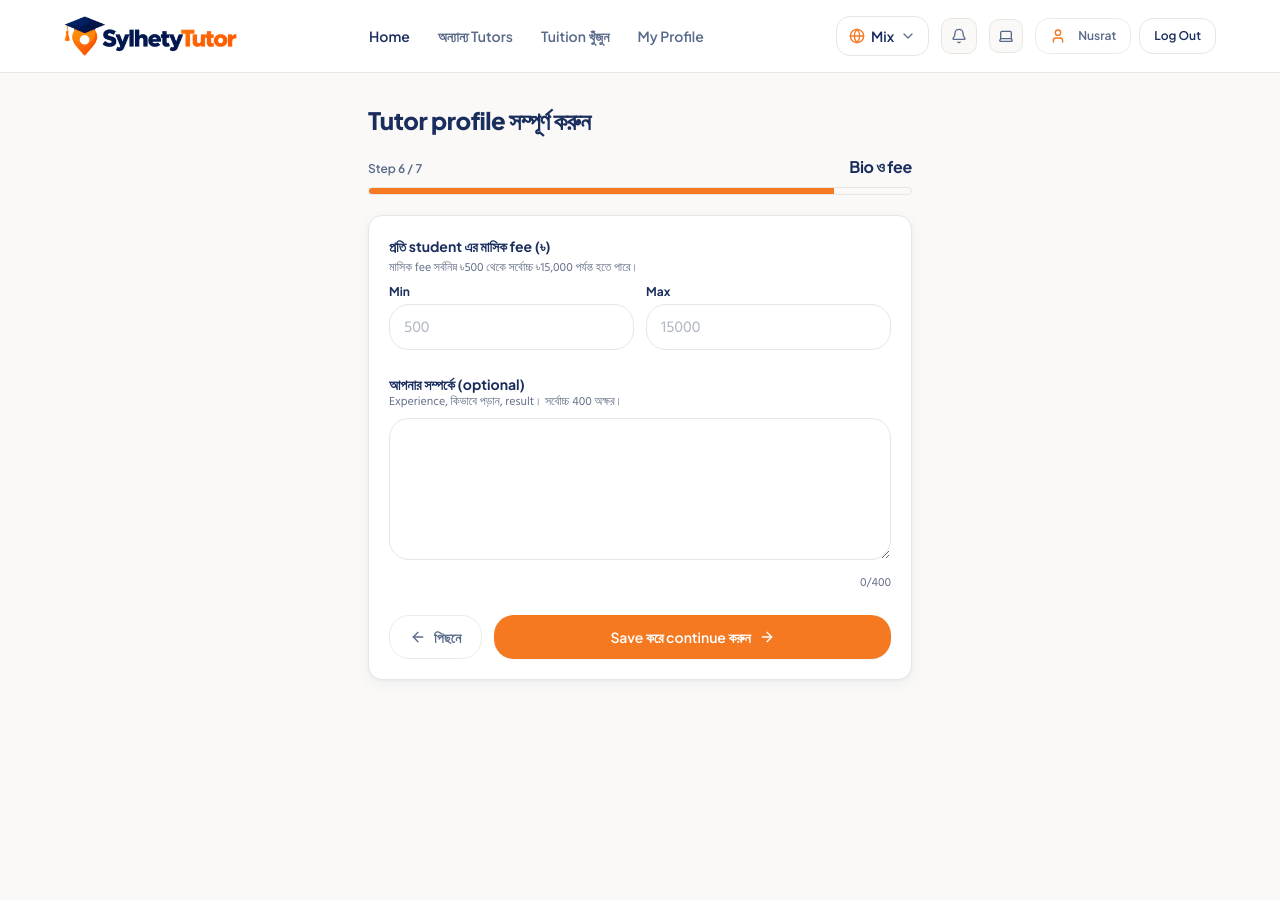
Scenario: TutorRegistration › step 6: bio and fee › refuses a minimum above the maximum
Step 1. Type "6000" into the field labelled "Min" → [512, 327], box [389,304,634,350]
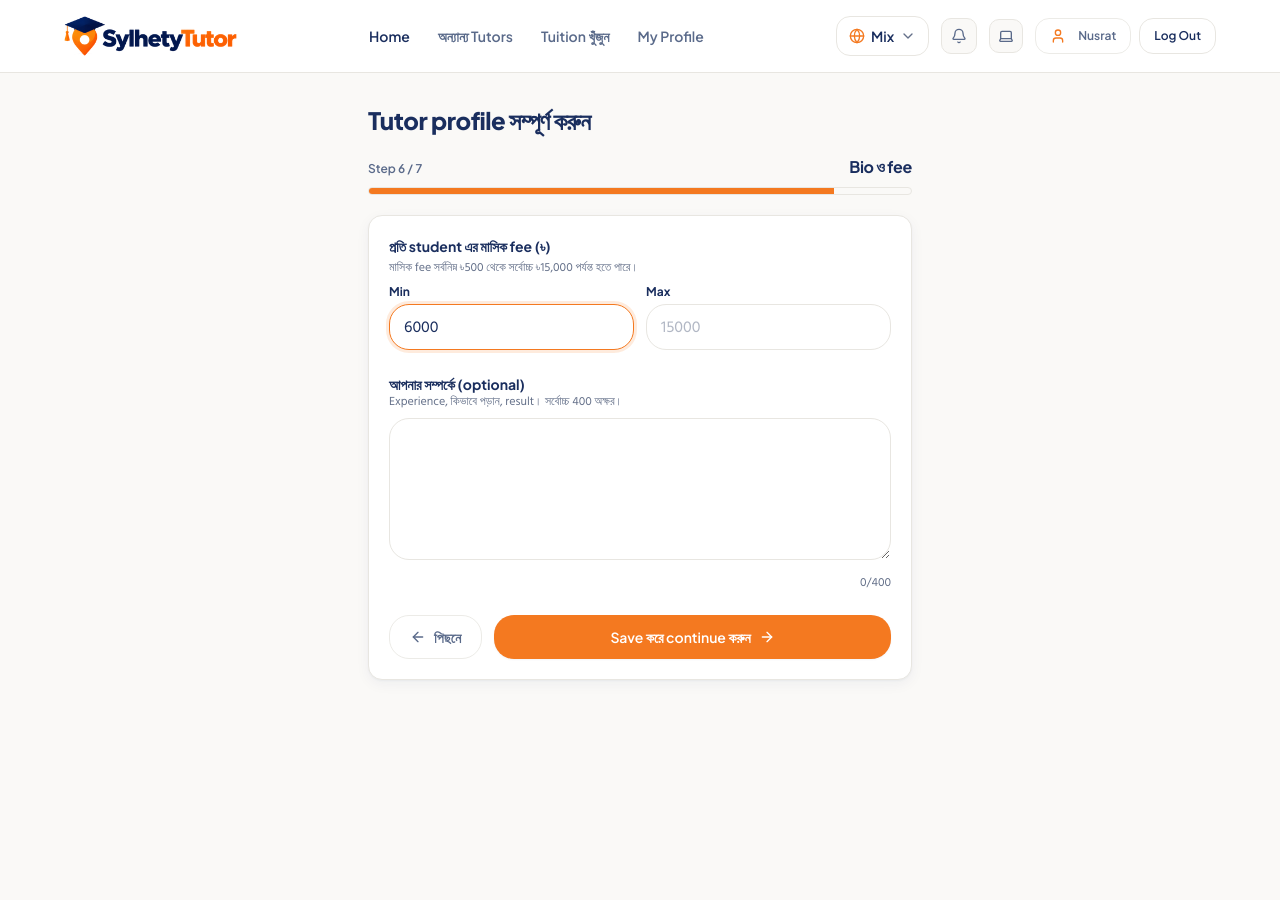
Step 2. Type "4000" into the field labelled "Max" → [768, 327], box [646,304,891,350]
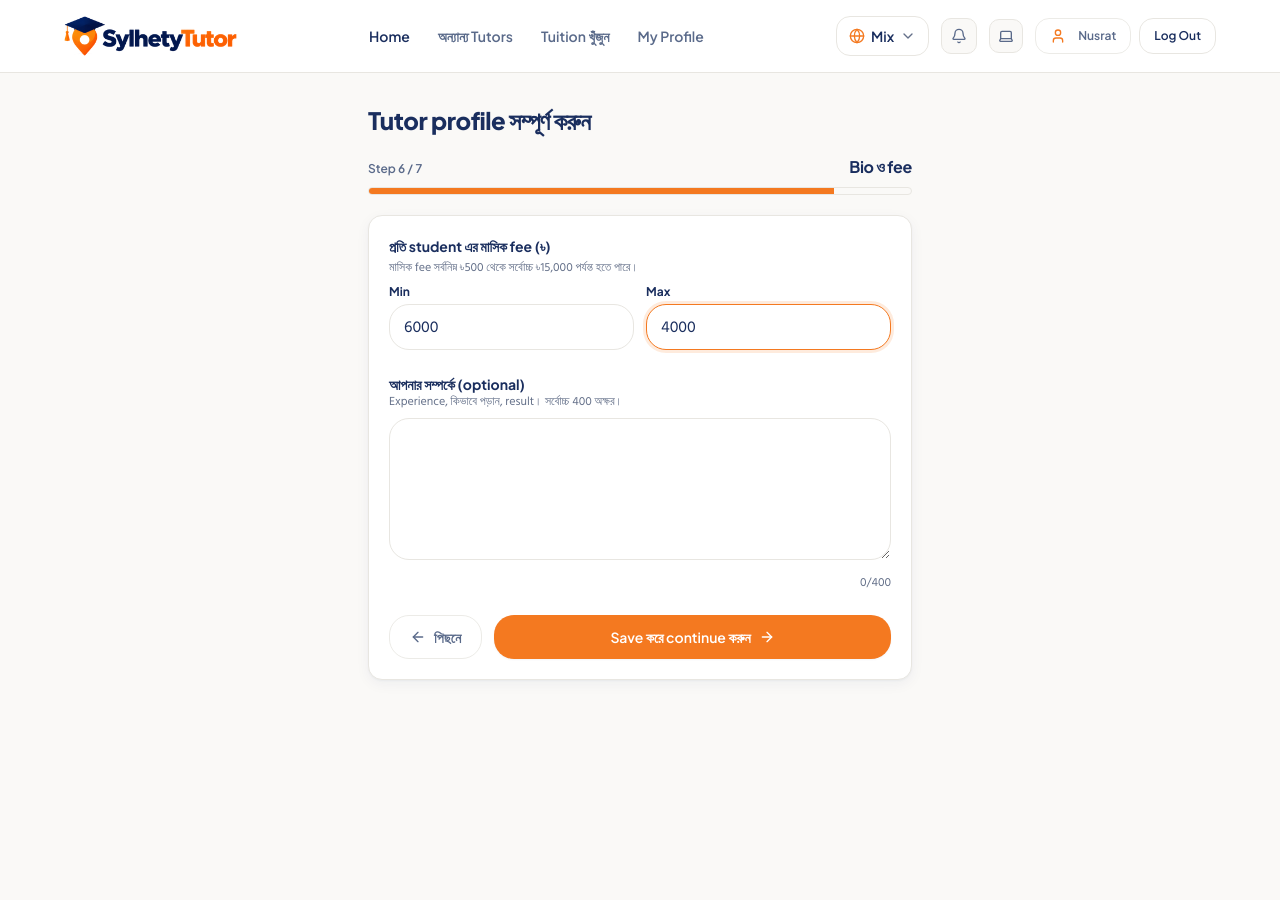
Step 3. Click the button "Save করে continue করুন" → [693, 637], box [494,615,891,659]
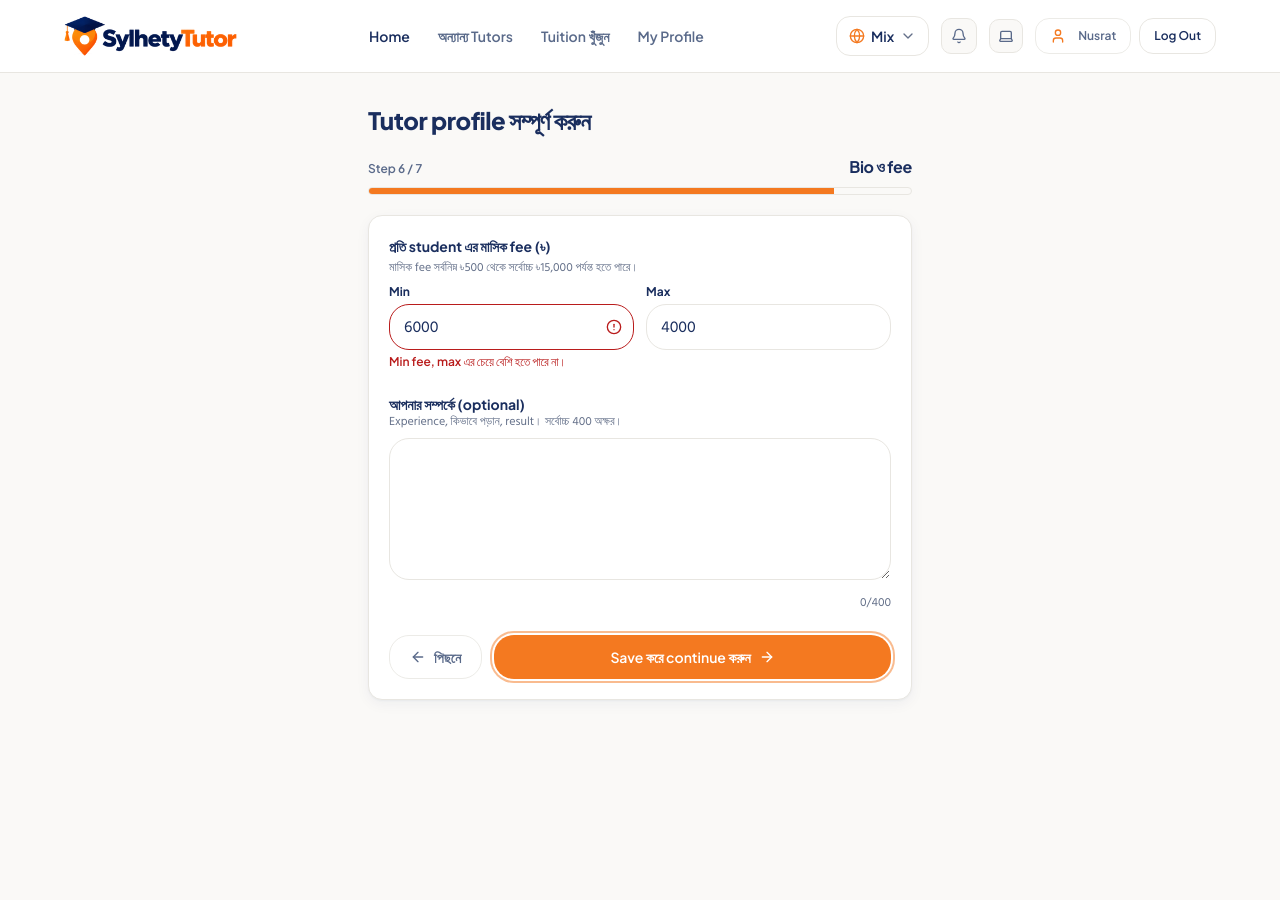
Expected: the text "Min fee, max এর চেয়ে বেশি হতে পারে না।" is shown, [389,354,567,369]
